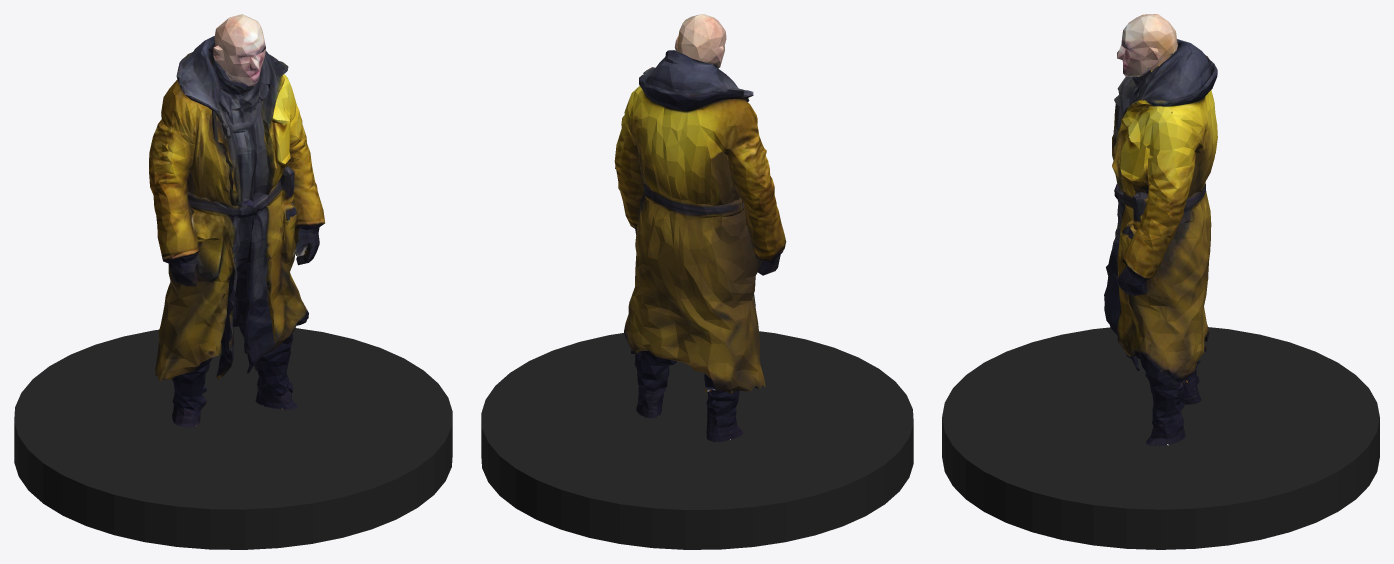
File: arthur-thurston.glb
3 views of the same model, side by side, from view 1: azimuth 30°, elevation 25°; view 2: azimuth 150°, elevation 25°; view 3: azimuth 270°, elevation 25° (orthographic).
Parts seen in each view (by area): view 1: base, figure; view 2: base, figure; view 3: base, figure.
Part boxes in pixels (left/top/right/bottom): base: left=14, top=326, right=452, bottom=549; figure: left=149, top=14, right=325, bottom=427; base: left=481, top=331, right=913, bottom=549; figure: left=614, top=14, right=786, bottom=442; base: left=942, top=327, right=1379, bottom=549; figure: left=1104, top=14, right=1217, bottom=446.
Bounding box in the file's own units: 1.18 × 1.32 × 1.18.
Materials: 2 (1 with a texture image).
